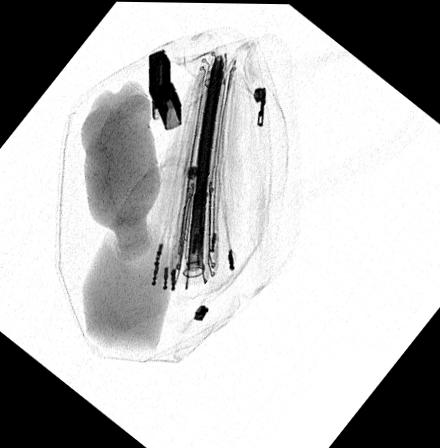Lighter: (147, 48, 184, 130)
